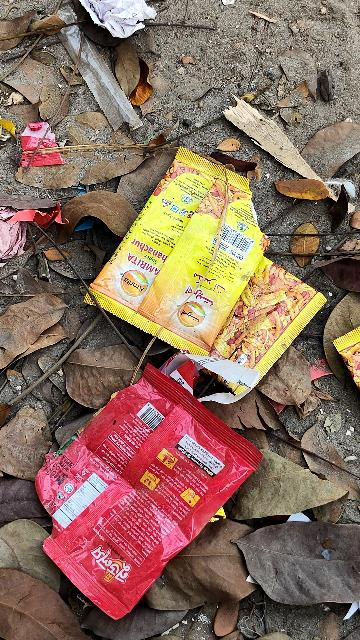packet: (111, 147, 317, 360), (47, 384, 233, 588)
